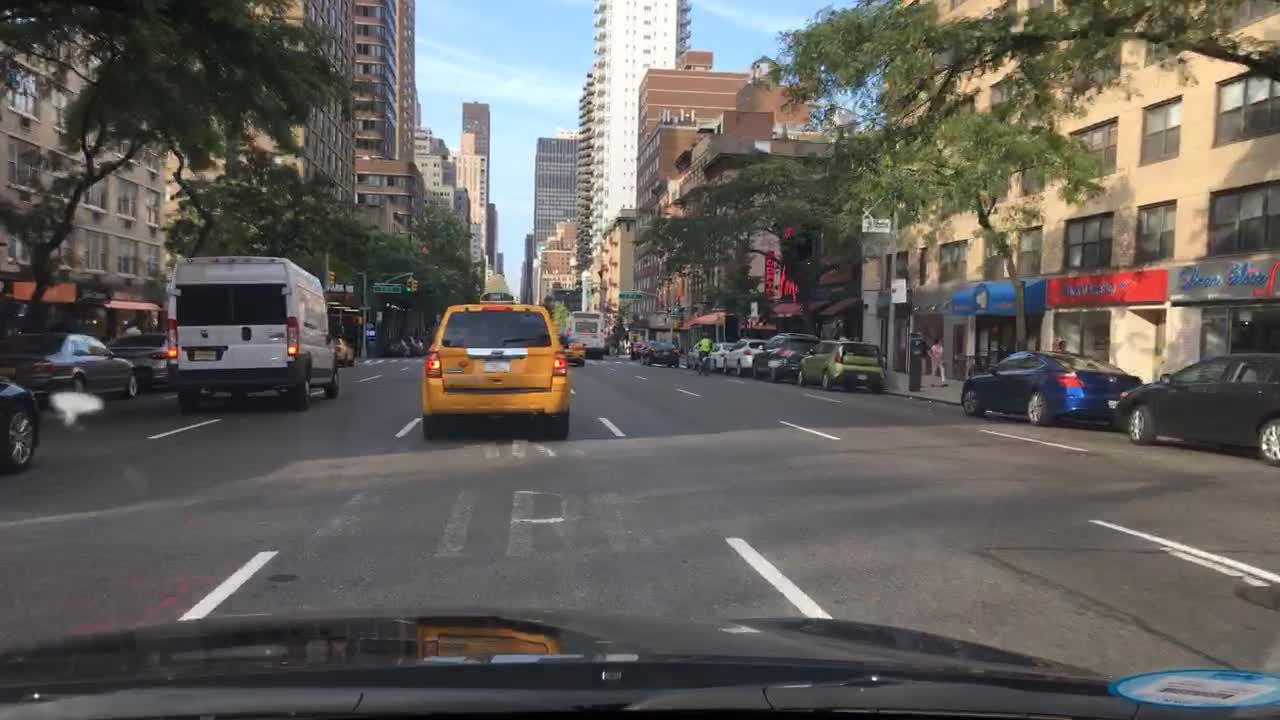bus: (165, 255, 341, 408), (561, 309, 612, 360)
car: (426, 301, 575, 438), (1117, 354, 1279, 468), (960, 346, 1142, 429), (1, 328, 137, 405), (96, 326, 180, 393), (797, 340, 891, 395), (1, 376, 41, 466), (748, 330, 822, 376), (720, 336, 769, 370), (634, 334, 683, 368), (708, 338, 738, 370), (561, 336, 587, 370), (331, 334, 359, 364), (685, 336, 706, 372), (408, 332, 437, 356), (382, 336, 410, 358), (628, 340, 648, 360), (404, 271, 418, 295)
person: (924, 334, 952, 387), (903, 332, 928, 378), (1050, 332, 1072, 356)
traffic light: (322, 268, 335, 295)
traffic sign: (369, 281, 404, 295), (616, 289, 644, 303), (748, 301, 759, 321)
